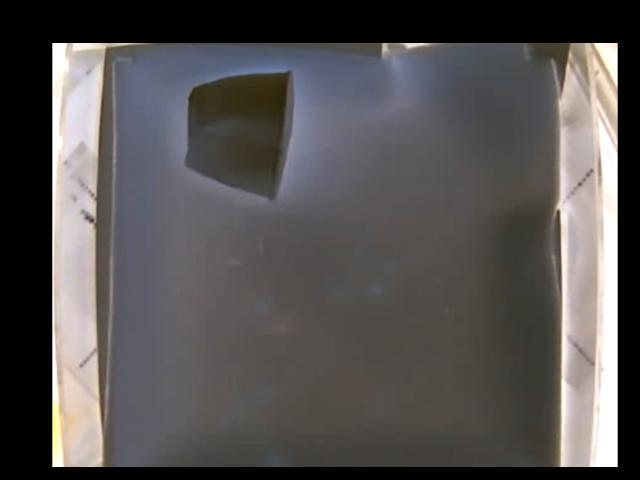Cup: (183, 70, 295, 202)
